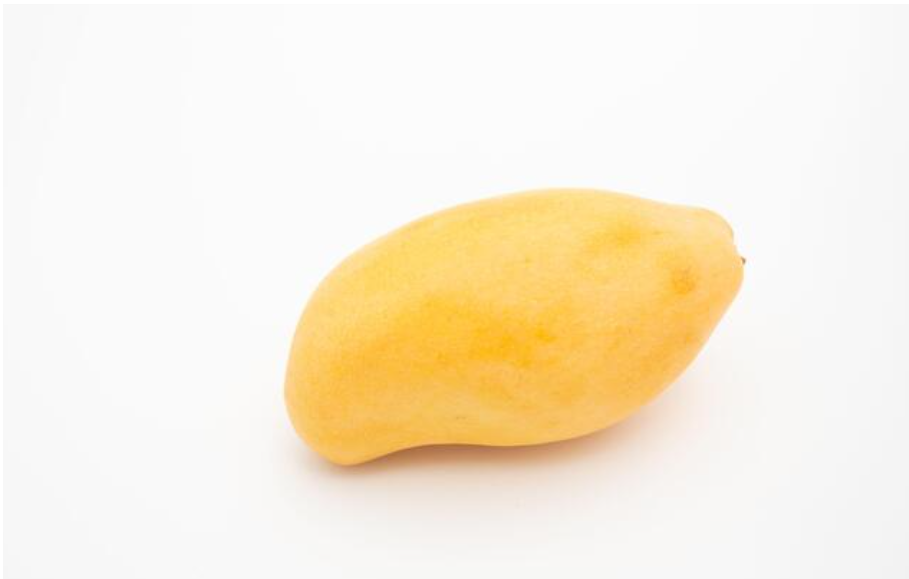mango: (284, 186, 745, 467)
